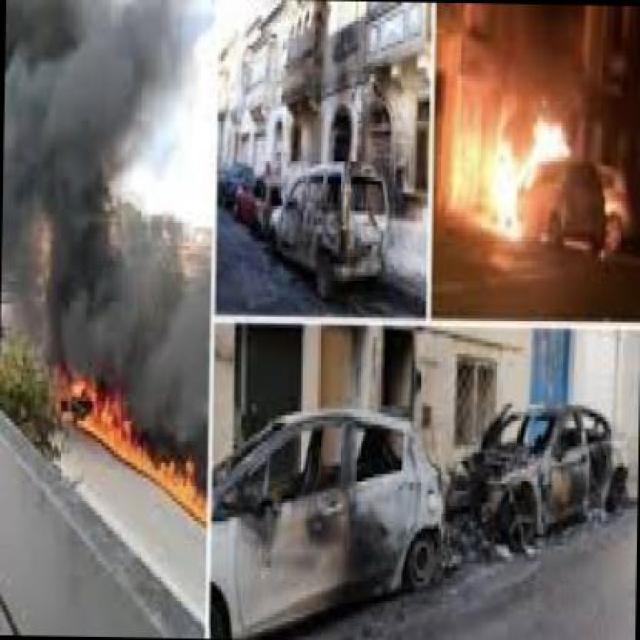Fire: (482, 102, 588, 254), (125, 446, 209, 538), (54, 378, 126, 464)
Smoke: (4, 3, 204, 374), (128, 381, 209, 444)
